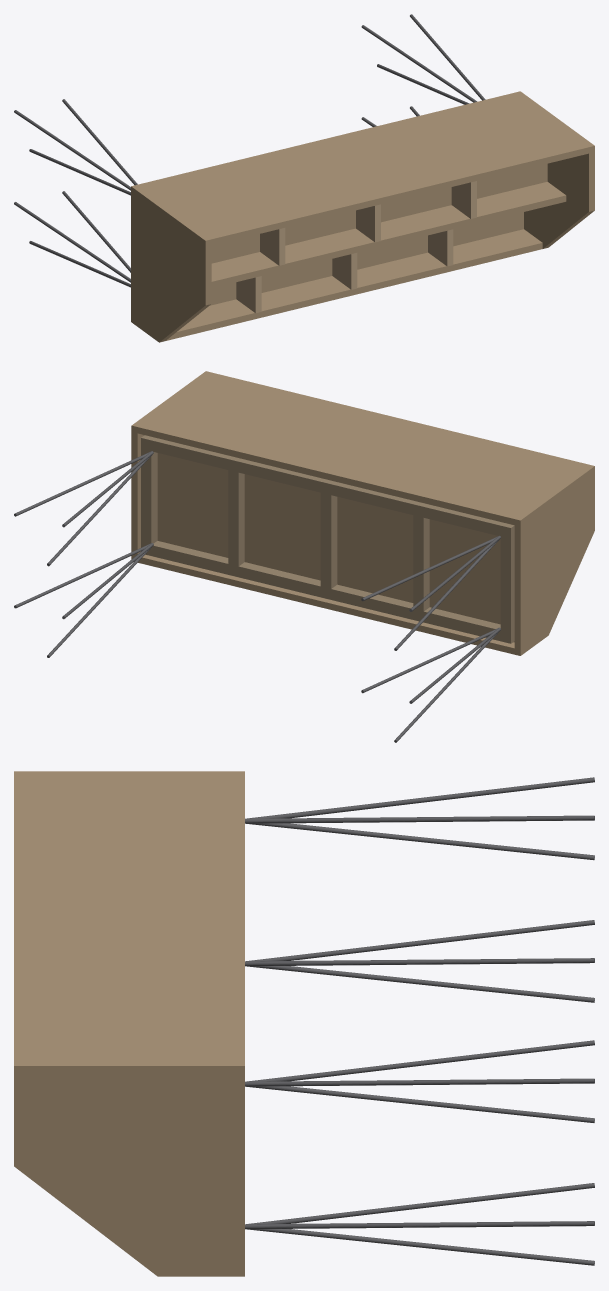
The model's file is vinyl_record_storage.glb.
3 renders of one model, top to bottom at view 1: azimuth 30°, elevation 25°; view 2: azimuth 150°, elevation 25°; view 3: azimuth 270°, elevation 25°, orthographic. The views are drawn at different scales.
Visible parts, largest first — view 1: back, side_left, front, shelf_divider, back_shelf_bottom, side_right, bottom, leg_back_left, leg_front_left, leg_back_right, back_divider_1, back_divider_3 (+4 smaller); view 2: back, bottom, side_left, frame_front, frame_back, front, frame_left, frame_right, frame_cross_2, side_right, frame_cross_3, leg_back_left (+4 smaller); view 3: back, side_right, leg_front_left, leg_front_right, leg_back_right, leg_back_left, side_left.
Boxes of the visible parts, x1,y1,x2,y2 form: back: [137, 92, 588, 245]; side_left: [131, 185, 211, 342]; front: [166, 229, 542, 340]; shelf_divider: [211, 181, 566, 287]; back_shelf_bottom: [211, 163, 547, 263]; side_right: [515, 91, 594, 248]; bottom: [209, 212, 523, 305]; leg_back_left: [14, 99, 137, 195]; leg_front_left: [14, 191, 130, 287]; leg_back_right: [361, 14, 485, 104]; back_divider_1: [260, 228, 285, 265]; back_divider_3: [451, 181, 476, 218]; back: [137, 372, 588, 525]; bottom: [143, 435, 514, 642]; side_left: [514, 464, 594, 655]; frame_front: [151, 541, 500, 641]; frame_back: [151, 437, 503, 535]; front: [138, 554, 514, 654]; frame_left: [500, 523, 514, 643]; frame_right: [141, 435, 157, 555]; frame_cross_2: [320, 493, 337, 588]; side_right: [131, 371, 211, 559]; frame_cross_3: [228, 470, 244, 566]; leg_back_left: [361, 535, 500, 650]; back: [14, 776, 244, 1061]; side_right: [14, 1061, 244, 1276]; leg_front_left: [245, 920, 594, 1002]; leg_front_right: [245, 1183, 594, 1265]; leg_back_right: [245, 1040, 594, 1122]; leg_back_left: [245, 777, 594, 860]; side_left: [14, 771, 244, 775].
Size of the model in its own units: 57.16 by 19.6 by 46.53.
